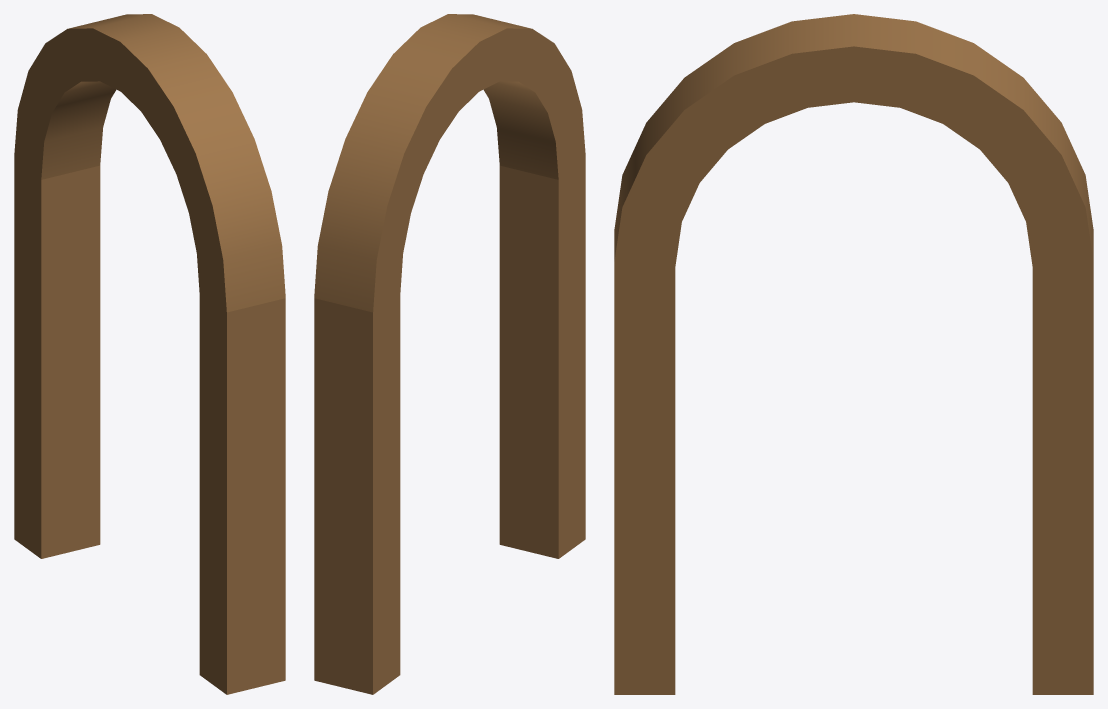
Rendered from detail_026.fbx.
The picture shows the model from 3 angles, left to right: view 1: azimuth 30°, elevation 25°; view 2: azimuth 150°, elevation 25°; view 3: azimuth 270°, elevation 25°; orthographic projection. The views are drawn at different scales.
Parts seen in each view (by area): view 1: detail_026; view 2: detail_026; view 3: detail_026.
Boxes of the visible parts, box(x1,y1,x2,y2) form: detail_026: box(14, 14, 285, 694); detail_026: box(314, 14, 585, 694); detail_026: box(614, 14, 1093, 694).
Bounding box in the file's own units: 0.5 × 4.66 × 3.12.
